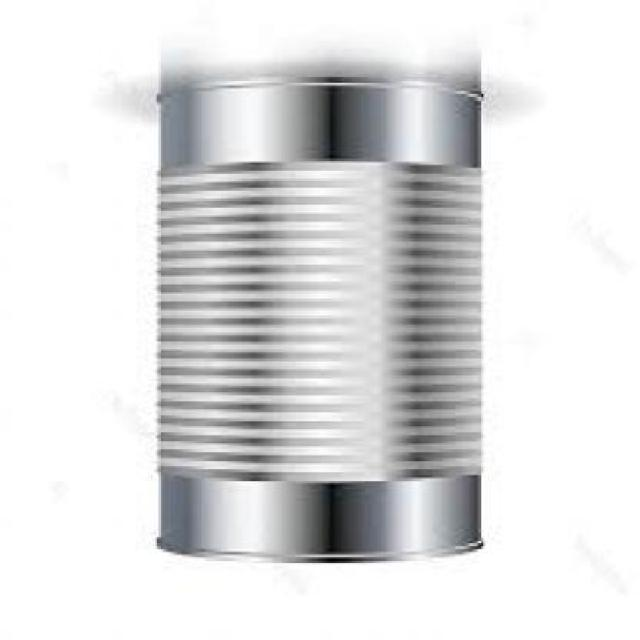METAL: (154, 77, 480, 563)
